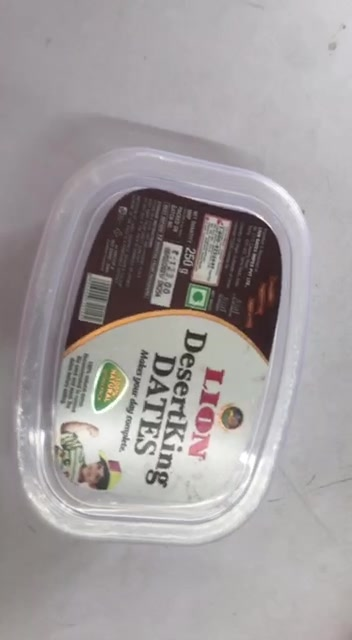Lion dates: (15, 149, 311, 546)
